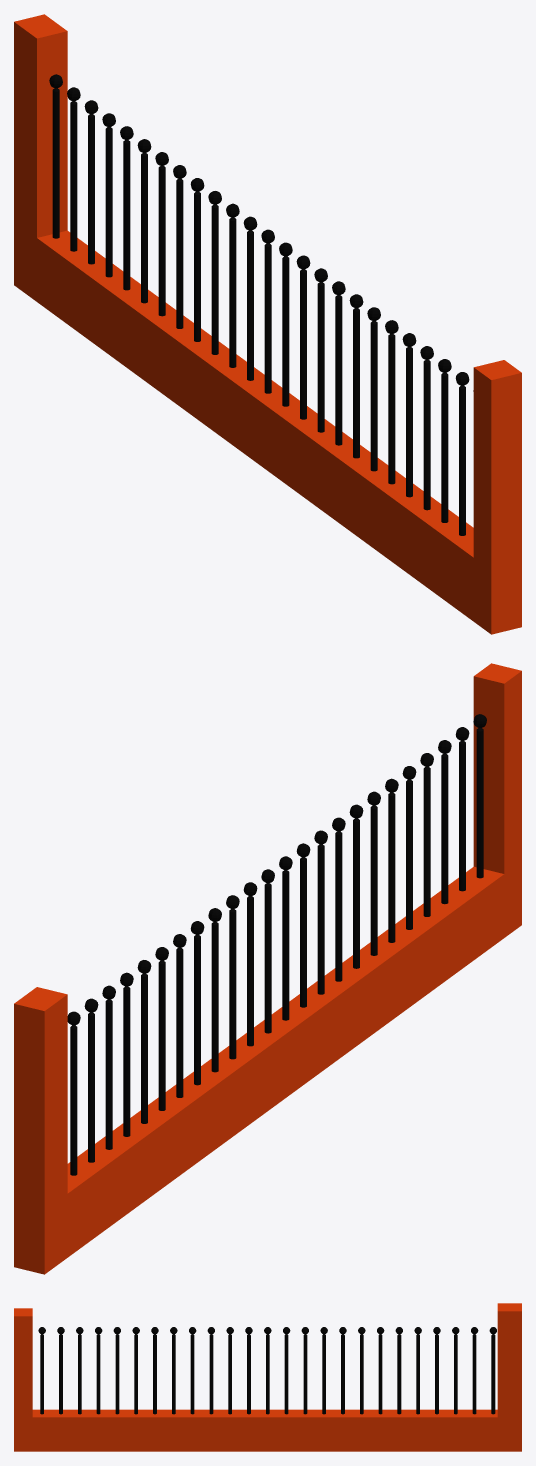
Rendered from gate wall.fbx.
3 renders of one model, top to bottom at view 1: azimuth 30°, elevation 25°; view 2: azimuth 150°, elevation 25°; view 3: azimuth 270°, elevation 25°, orthographic. The views are drawn at different scales.
Visible parts, largest first — view 1: Cube, Cylinder.006, Cylinder.021, Cylinder.010, Cylinder.004, Cylinder.007, Cylinder.019, Cylinder.022, Cylinder.024, Cylinder.009, Cylinder.012, Cylinder.013 (+13 smaller); view 2: Cube, Cylinder.001, Cylinder.022, Cylinder.003, Cylinder.007, Cylinder.009, Cylinder.010, Cylinder.012, Cylinder.016, Cylinder.024, Cylinder.015, Cylinder.021 (+13 smaller); view 3: Cube, Cylinder.004, Cylinder.005, Cylinder.009, Cylinder.010, Cylinder.015, Cylinder.020, Cylinder.025, Cylinder.014, Cylinder.019, Cylinder.024, Cylinder.002 (+14 smaller).
Part boxes in pixels (bbox=[...]): Cube: bbox=[14, 14, 521, 634]; Cylinder.006: bbox=[385, 320, 398, 484]; Cylinder.021: bbox=[120, 126, 133, 290]; Cylinder.010: bbox=[314, 268, 327, 432]; Cylinder.004: bbox=[420, 346, 433, 510]; Cylinder.007: bbox=[367, 307, 380, 471]; Cylinder.019: bbox=[155, 152, 168, 316]; Cylinder.022: bbox=[102, 113, 115, 277]; Cylinder.024: bbox=[67, 87, 80, 251]; Cylinder.009: bbox=[332, 281, 345, 445]; Cylinder.012: bbox=[279, 242, 292, 406]; Cylinder.013: bbox=[261, 229, 274, 393]; Cube: bbox=[14, 663, 521, 1274]; Cylinder.001: bbox=[473, 714, 486, 878]; Cylinder.022: bbox=[102, 985, 115, 1149]; Cylinder.003: bbox=[438, 740, 451, 904]; Cylinder.007: bbox=[367, 791, 380, 955]; Cylinder.009: bbox=[332, 817, 345, 981]; Cylinder.010: bbox=[314, 830, 327, 994]; Cylinder.012: bbox=[279, 856, 292, 1020]; Cylinder.016: bbox=[208, 908, 221, 1072]; Cylinder.024: bbox=[67, 1011, 80, 1175]; Cylinder.015: bbox=[226, 895, 239, 1059]; Cylinder.021: bbox=[120, 972, 133, 1136]; Cube: bbox=[14, 1303, 521, 1451]; Cylinder.004: bbox=[95, 1327, 102, 1414]; Cylinder.005: bbox=[113, 1327, 120, 1414]; Cylinder.009: bbox=[189, 1327, 196, 1414]; Cylinder.010: bbox=[207, 1327, 214, 1414]; Cylinder.015: bbox=[301, 1327, 308, 1414]; Cylinder.020: bbox=[395, 1327, 402, 1414]; Cylinder.025: bbox=[489, 1327, 496, 1414]; Cylinder.014: bbox=[283, 1327, 290, 1414]; Cylinder.019: bbox=[377, 1327, 384, 1414]; Cylinder.024: bbox=[471, 1327, 478, 1414]; Cylinder.002: bbox=[57, 1327, 64, 1414].
Bounding box in the file's own units: 100 × 823 × 2702.
